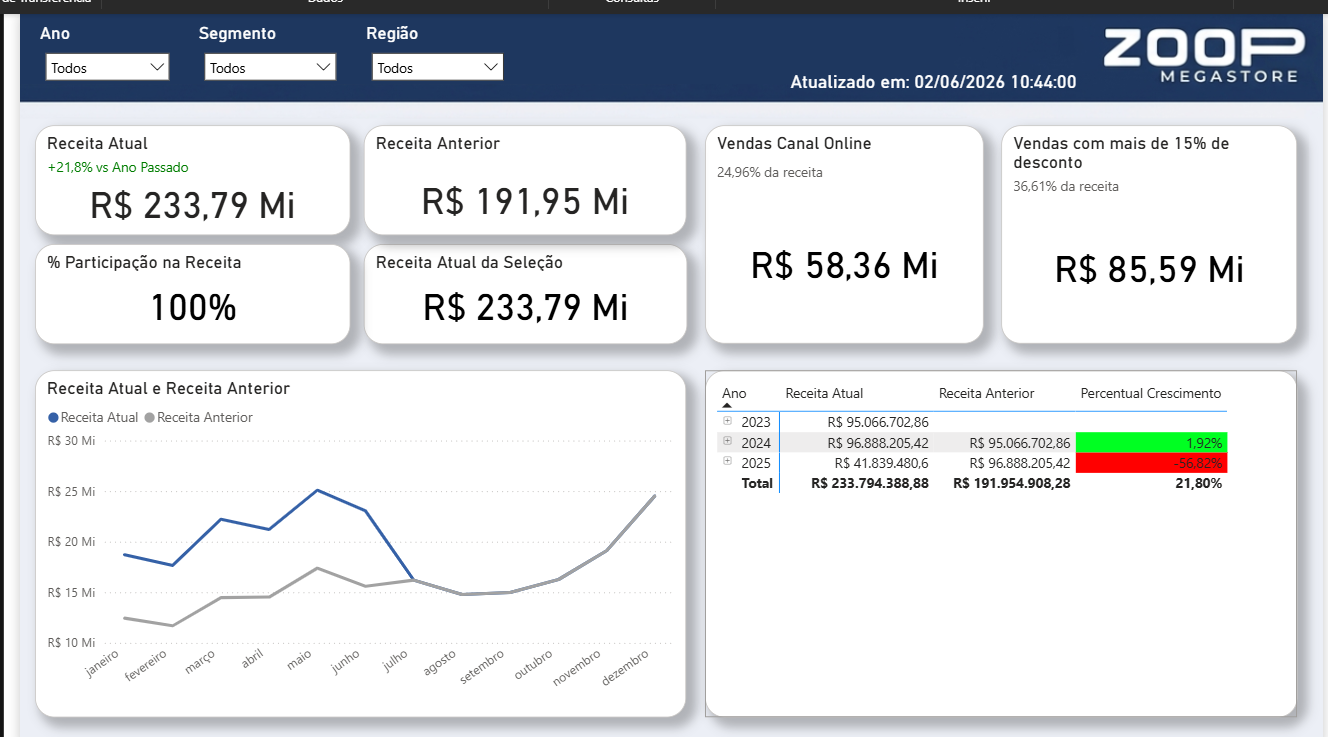

The page's visual inventory and layout, read from the dashboard file:
{"tool":"powerbi","page":{"name":"Painel Receita","canvas":[1280,720],"ordinal":0},"visuals":[{"type":"card","title":"Vendas Canal Online","fields":{"Values":["Medidas.Total Vendas Online"]},"box":[672.4,109.6,273.6,214.7],"z":0},{"type":"card","title":"Vendas com mais de 15% de desconto","fields":{"Values":["Medidas.Total Vendas Acima 15 Pct"]},"box":[963.2,109.6,290.8,214.7],"z":1000},{"type":"card","title":"Receita Atual","fields":{"Values":["Medidas.Total Fixo Vendas"]},"box":[14.7,109.6,309.2,108],"z":2000},{"type":"slicer","title":"Região","fields":{"Values":["DimCustomer.Region"]},"box":[335,8.2,149.7,72.4],"z":3000},{"type":"card","title":"Receita Atual da Seleção","fields":{"Values":["Medidas.Total de Vendas"]},"box":[337.4,226.2,317.8,98.2],"z":4000},{"type":"card","title":"% Participação na Receita","fields":{"Values":["Medidas.Percentual Filial"]},"box":[14.7,226.2,309.2,98.2],"z":5000},{"type":"slicer","title":"Segmento","fields":{"Values":["DimCustomer.Segment"]},"box":[171.2,8.8,149.7,71.2],"z":6000},{"type":"card","title":"Receita Anterior","fields":{"Values":["Medidas.Receita Ano Passado"]},"box":[337.4,109.6,316.6,108],"z":7000},{"type":"lineChart","title":"Receita Atual e Receita Anterior","fields":{"Category":["dCalendario.Date.Variation.Hierarquia de datas.Ano","dCalendario.Date.Variation.Hierarquia de datas.Mês","dCalendario.Date.Variation.Hierarquia de datas.Trimestre"],"Y":["Medidas.Receita Atual Variavel","Medidas.Receita Anterior Variavel"]},"box":[14.7,349.7,639.3,341.1],"z":8000},{"type":"pivotTable","fields":{"Rows":["dCalendario.Year","dCalendario.Date.Variation.Hierarquia de datas.Mês"],"Values":["Medidas.Total de Vendas","Medidas.Receita Ano Passado Variavel","Medidas.Percentual Crescimento"]},"box":[672.4,349.4,581.6,341.1],"z":9000},{"type":"slicer","title":"Ano","fields":{"Values":["dCalendario.Date.Variation.Hierarquia de datas.Ano"]},"box":[14.7,8.8,142.3,71.2],"z":10000},{"type":"card","fields":{"Values":["Medidas.Atualizado em"]},"box":[749.7,39.3,294.5,55.2],"z":11000}]}

Visuals, with their boxes on the page's 1280x720 design canvas (x1, y1, x2, y2). These are canvas units, not pixel positions in the 1328x737 screenshot, which may show the page scaled, cropped or inside an application window:
"Vendas Canal Online" card: select_region(672, 110, 946, 324)
"Vendas com mais de 15% de desconto" card: select_region(963, 110, 1254, 324)
"Receita Atual" card: select_region(15, 110, 324, 218)
"Região" slicer: select_region(335, 8, 485, 81)
"Receita Atual da Seleção" card: select_region(337, 226, 655, 324)
"% Participação na Receita" card: select_region(15, 226, 324, 324)
"Segmento" slicer: select_region(171, 9, 321, 80)
"Receita Anterior" card: select_region(337, 110, 654, 218)
"Receita Atual e Receita Anterior" lineChart: select_region(15, 350, 654, 691)
pivotTable - dCalendario.Year x dCalendario.Date.Variation.Hierarquia de datas.Mês: select_region(672, 349, 1254, 690)
"Ano" slicer: select_region(15, 9, 157, 80)
card - Medidas.Atualizado em: select_region(750, 39, 1044, 94)
